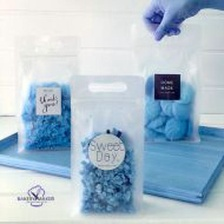snack: (62, 69, 150, 221), (126, 18, 206, 146), (8, 28, 85, 158)
